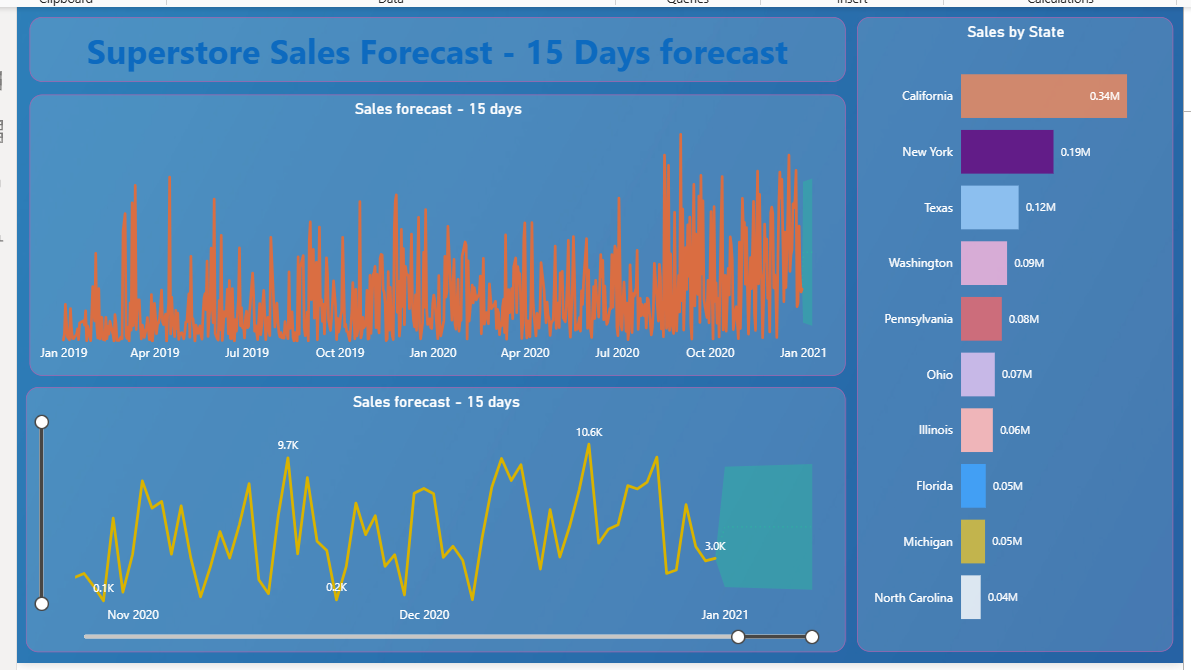

The page's visual inventory and layout, read from the dashboard file:
{"tool":"powerbi","page":{"name":"Sales Forecast","canvas":[1280,720],"ordinal":1},"visuals":[{"type":"lineChart","title":" Sales forecast - 15 days","fields":{"Y":["Sum(superstoreclean.Sales)"],"Category":["superstoreclean.Order Date"]},"box":[13.7,96.1,896.1,308.7],"z":0},{"type":"lineChart","title":" Sales forecast - 15 days ","fields":{"Y":["Sum(superstoreclean.Sales)"],"Category":["superstoreclean.Order Date"]},"box":[9.6,417.2,900.2,290.9],"z":1000},{"type":"barChart","title":"Sales by State","fields":{"Y":["Sum(superstoreclean.Sales)"],"Category":["superstoreclean.State"]},"box":[922.1,11,347.2,697.1],"z":1001},{"type":"textbox","box":[13.7,11,896.1,71.4],"z":1002}]}

Visuals, with their boxes on the page's 1280x720 design canvas (x1, y1, x2, y2). These are canvas units, not pixel positions in the 1191x670 screenshot, which may show the page scaled, cropped or inside an application window:
" Sales forecast - 15 days" lineChart: rect(14, 96, 910, 405)
" Sales forecast - 15 days " lineChart: rect(10, 417, 910, 708)
"Sales by State" barChart: rect(922, 11, 1269, 708)
textbox: rect(14, 11, 910, 82)
